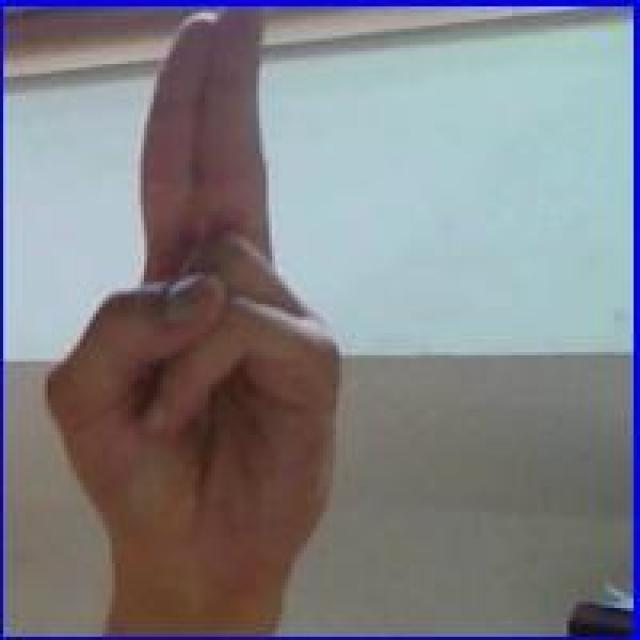U: (40, 6, 354, 589)
